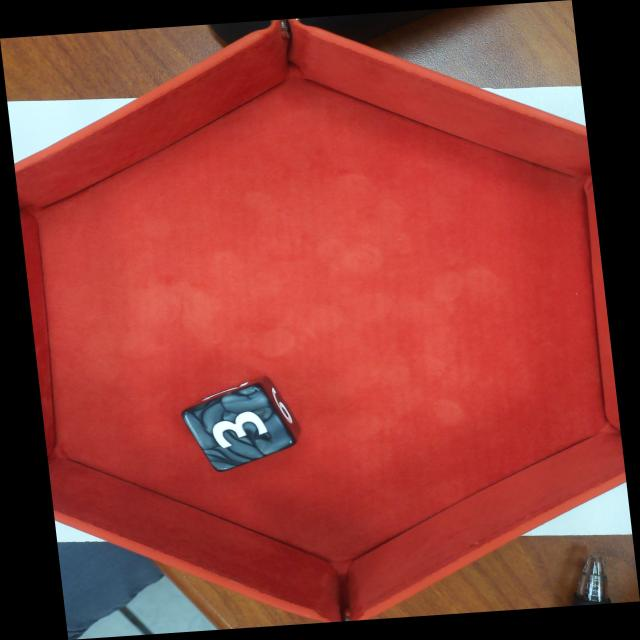dice: (177, 380, 299, 475)
